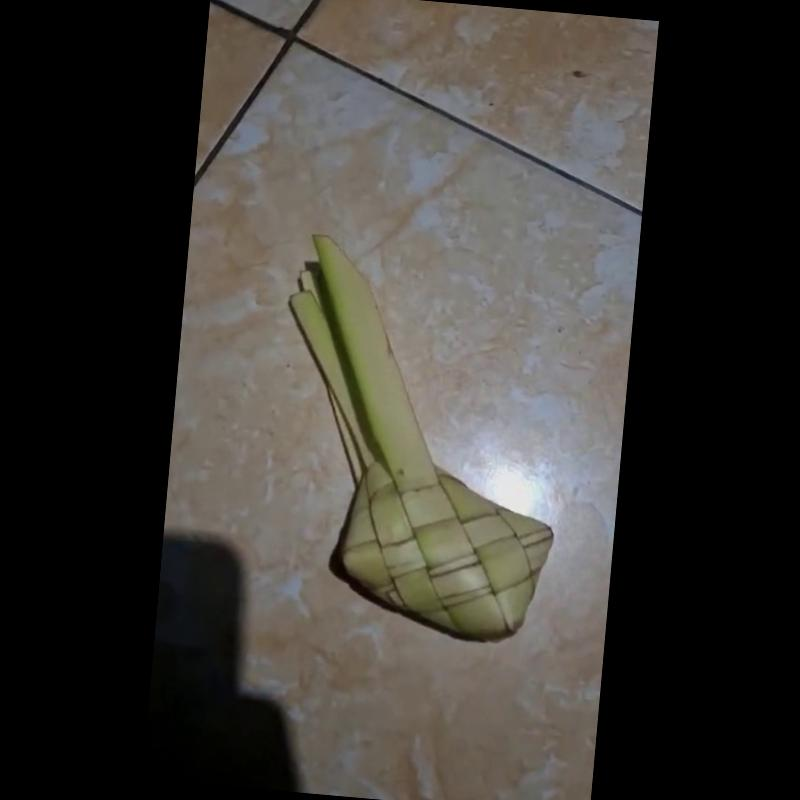Tipat Bantal: (286, 233, 564, 660)
